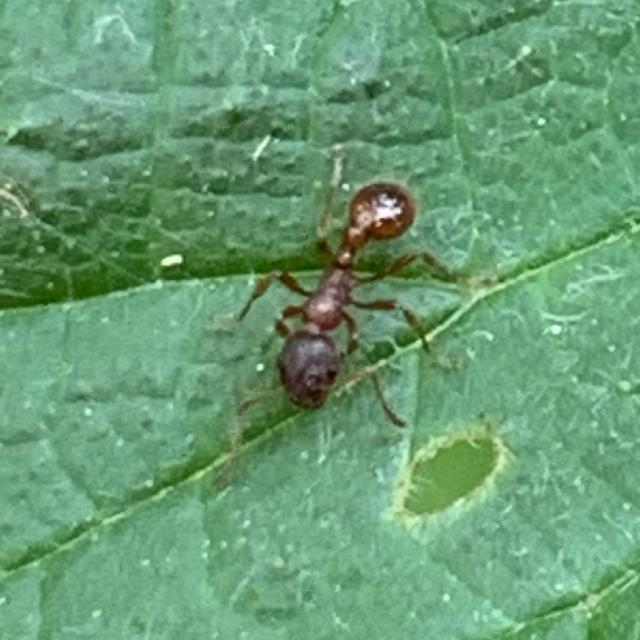Myrmica: (217, 122, 425, 460)
